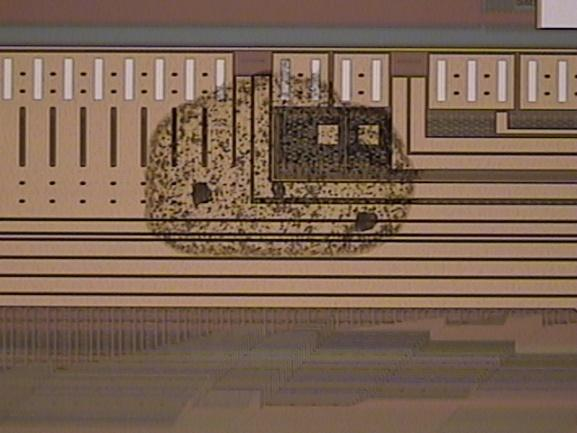PO CONTAMINATION: (142, 68, 421, 265)
